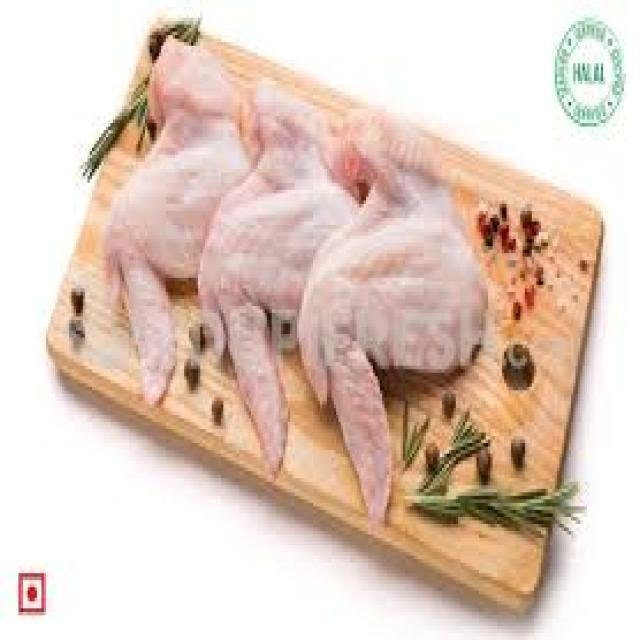wing: (330, 106, 480, 526), (214, 82, 346, 472), (118, 28, 250, 402)
